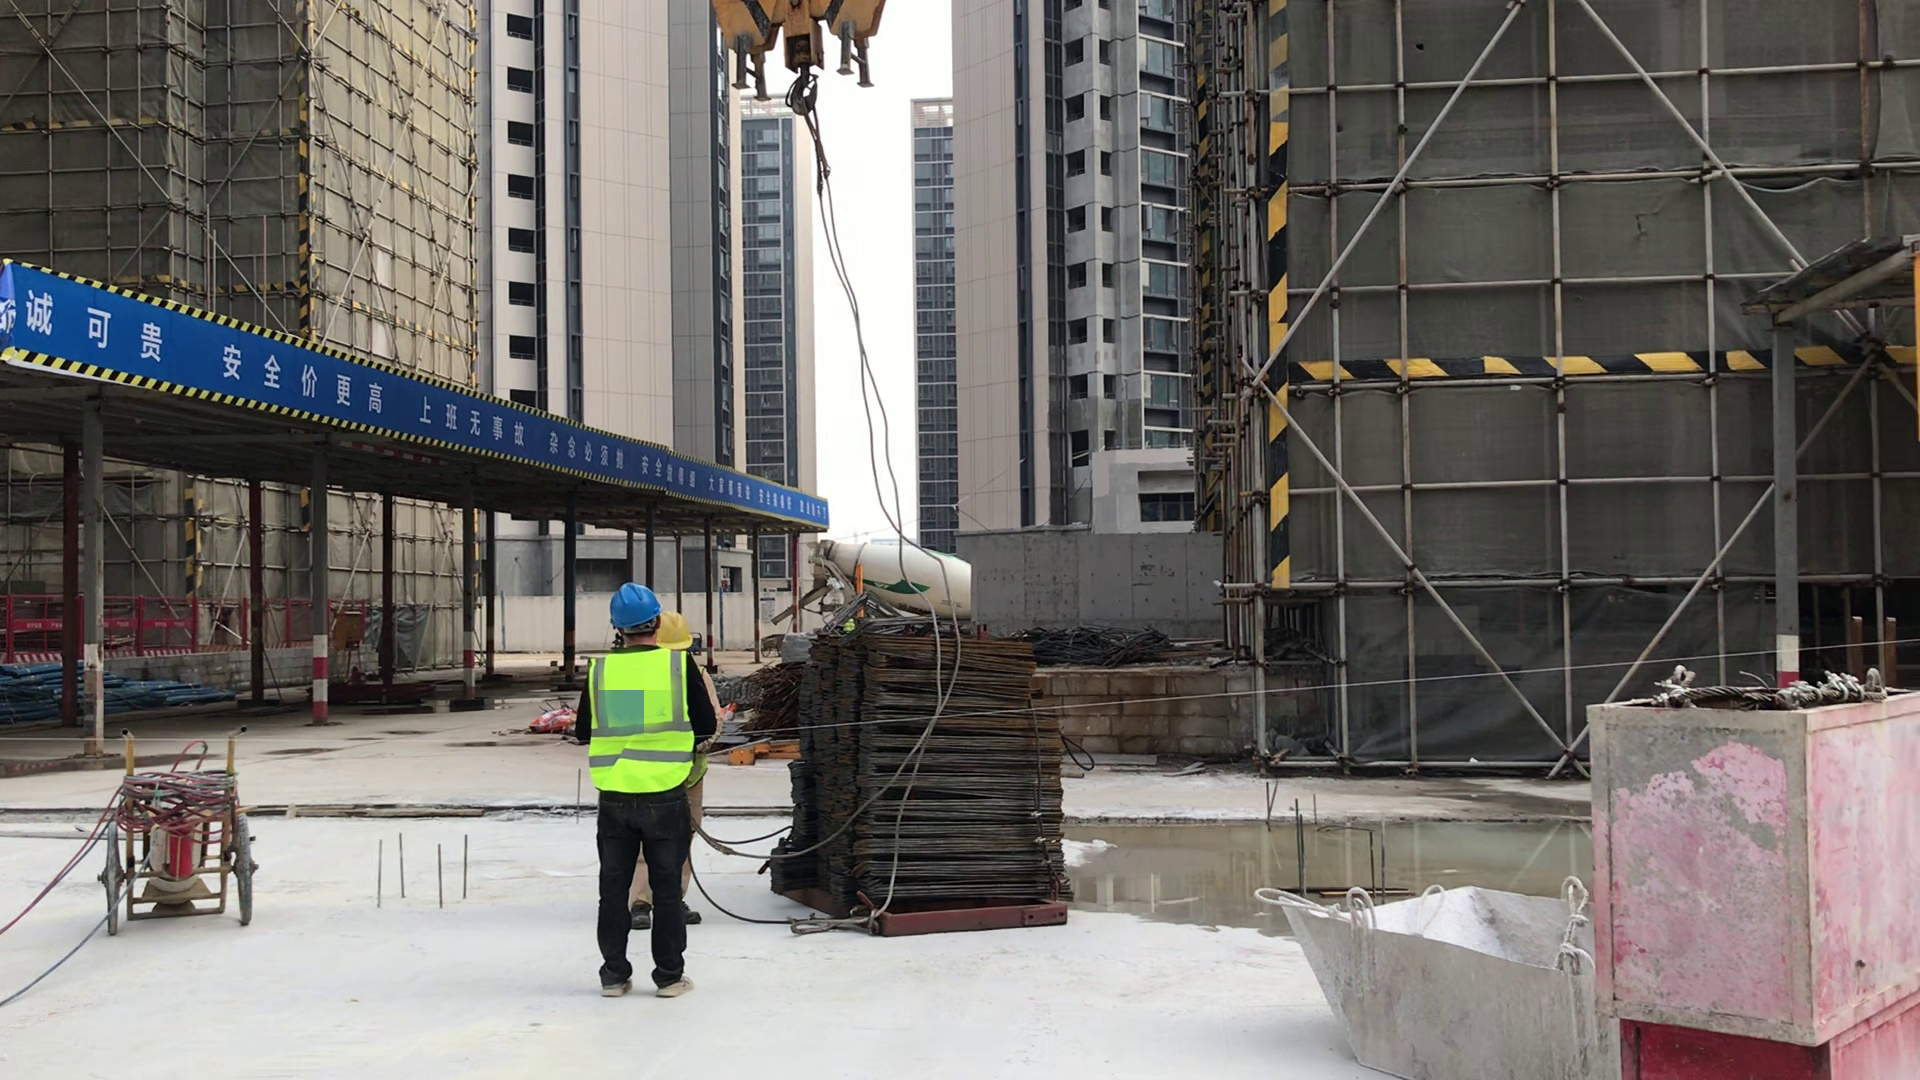ebox: (333, 608, 365, 650)
fence: (1, 595, 370, 657)
helmet: (610, 583, 664, 634)
hook: (700, 1, 890, 122)
hopper: (1265, 866, 1627, 1070)
person: (579, 573, 720, 1006)
slogan: (1, 247, 318, 412), (570, 419, 834, 529), (324, 357, 565, 456)
vest: (577, 649, 696, 800)
